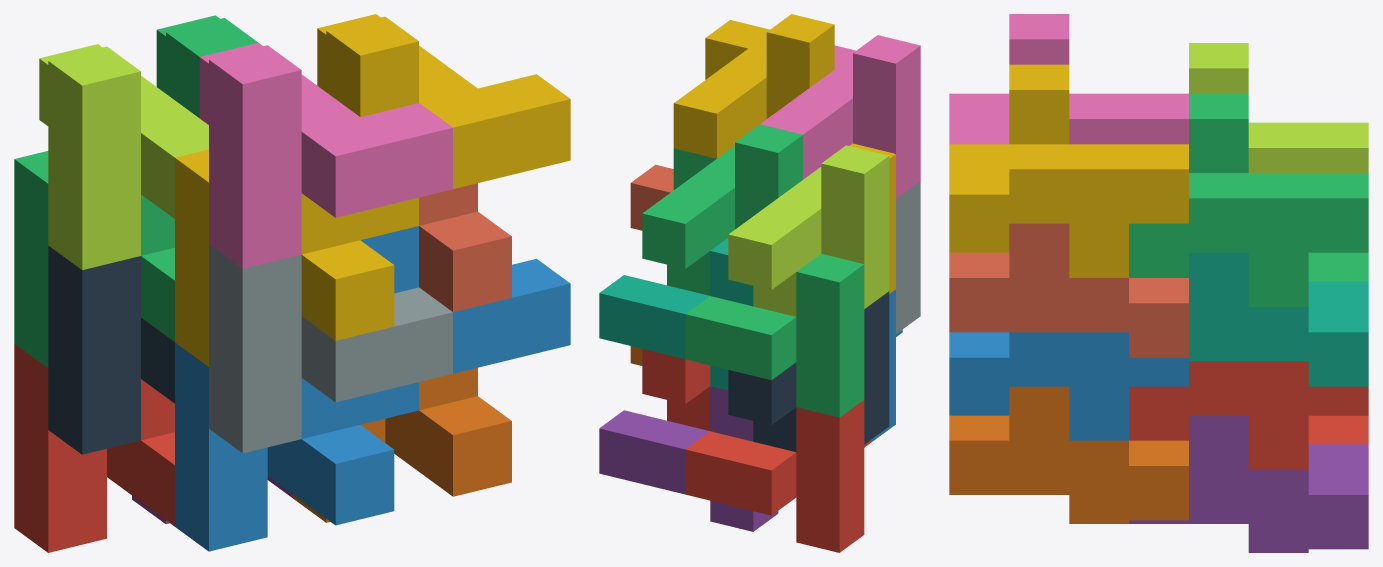
The model's file is tiling.obj.
3 views of the same model, side by side, from view 1: azimuth 30°, elevation 25°; view 2: azimuth 150°, elevation 25°; view 3: azimuth 270°, elevation 25° (orthographic). The views are drawn at different scales.
Visible parts, largest first — view 1: copy_2_domain_4, copy_2_domain_2, copy_2_domain_3, copy_1_domain_2, copy_2_domain_8, copy_2_domain_1, copy_1_domain_1, copy_1_domain_4, copy_2_domain_6, copy_1_domain_6, copy_1_domain_3, copy_1_domain_8 (+1 smaller); view 2: copy_1_domain_3, copy_2_domain_3, copy_1_domain_1, copy_2_domain_7, copy_2_domain_8, copy_2_domain_4, copy_1_domain_5, copy_1_domain_7, copy_2_domain_1, copy_2_domain_5, copy_2_domain_2, copy_1_domain_8 (+2 smaller); view 3: copy_2_domain_8, copy_2_domain_7, copy_1_domain_6, copy_1_domain_8, copy_1_domain_5, copy_2_domain_6, copy_1_domain_7, copy_2_domain_5, copy_2_domain_4, copy_2_domain_3, copy_1_domain_3, copy_1_domain_1.
Boxes of the visible parts, x1,y1,x2,y2 form: copy_2_domain_4: (199, 42, 452, 268); copy_2_domain_2: (209, 244, 452, 453); copy_2_domain_3: (39, 44, 208, 270); copy_1_domain_2: (175, 342, 394, 551); copy_2_domain_8: (317, 14, 570, 239); copy_2_domain_1: (48, 245, 174, 454); copy_1_domain_1: (14, 344, 174, 552); copy_1_domain_4: (175, 149, 394, 366); copy_2_domain_6: (360, 226, 570, 424); copy_1_domain_6: (292, 367, 511, 522); copy_1_domain_3: (14, 151, 174, 367); copy_1_domain_8: (419, 183, 511, 311); copy_1_domain_3: (685, 253, 864, 417); copy_2_domain_3: (728, 145, 889, 316); copy_1_domain_1: (685, 400, 870, 552); copy_2_domain_7: (642, 124, 802, 295); copy_2_domain_8: (673, 14, 834, 158); copy_2_domain_4: (760, 35, 920, 198); copy_1_domain_5: (599, 386, 778, 531); copy_1_domain_7: (599, 238, 753, 390); copy_2_domain_1: (728, 291, 889, 451); copy_2_domain_5: (642, 349, 710, 430); copy_2_domain_2: (896, 181, 920, 333); copy_1_domain_8: (630, 164, 673, 230); copy_2_domain_8: (949, 64, 1188, 277); copy_2_domain_7: (1129, 93, 1368, 306); copy_1_domain_6: (949, 386, 1188, 523); copy_1_domain_8: (949, 223, 1188, 357); copy_1_domain_5: (1129, 415, 1368, 552); copy_2_domain_6: (949, 332, 1188, 440); copy_1_domain_7: (1189, 252, 1368, 386); copy_2_domain_5: (1129, 361, 1368, 469); copy_2_domain_4: (949, 14, 1188, 144); copy_2_domain_3: (1189, 43, 1368, 172); copy_1_domain_3: (1308, 252, 1368, 281); copy_1_domain_1: (1308, 415, 1368, 444).
Size of the model in its own units: 6 by 9 by 7.
